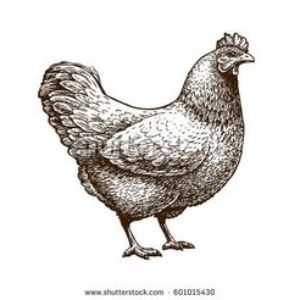hen: (30, 27, 270, 265)
